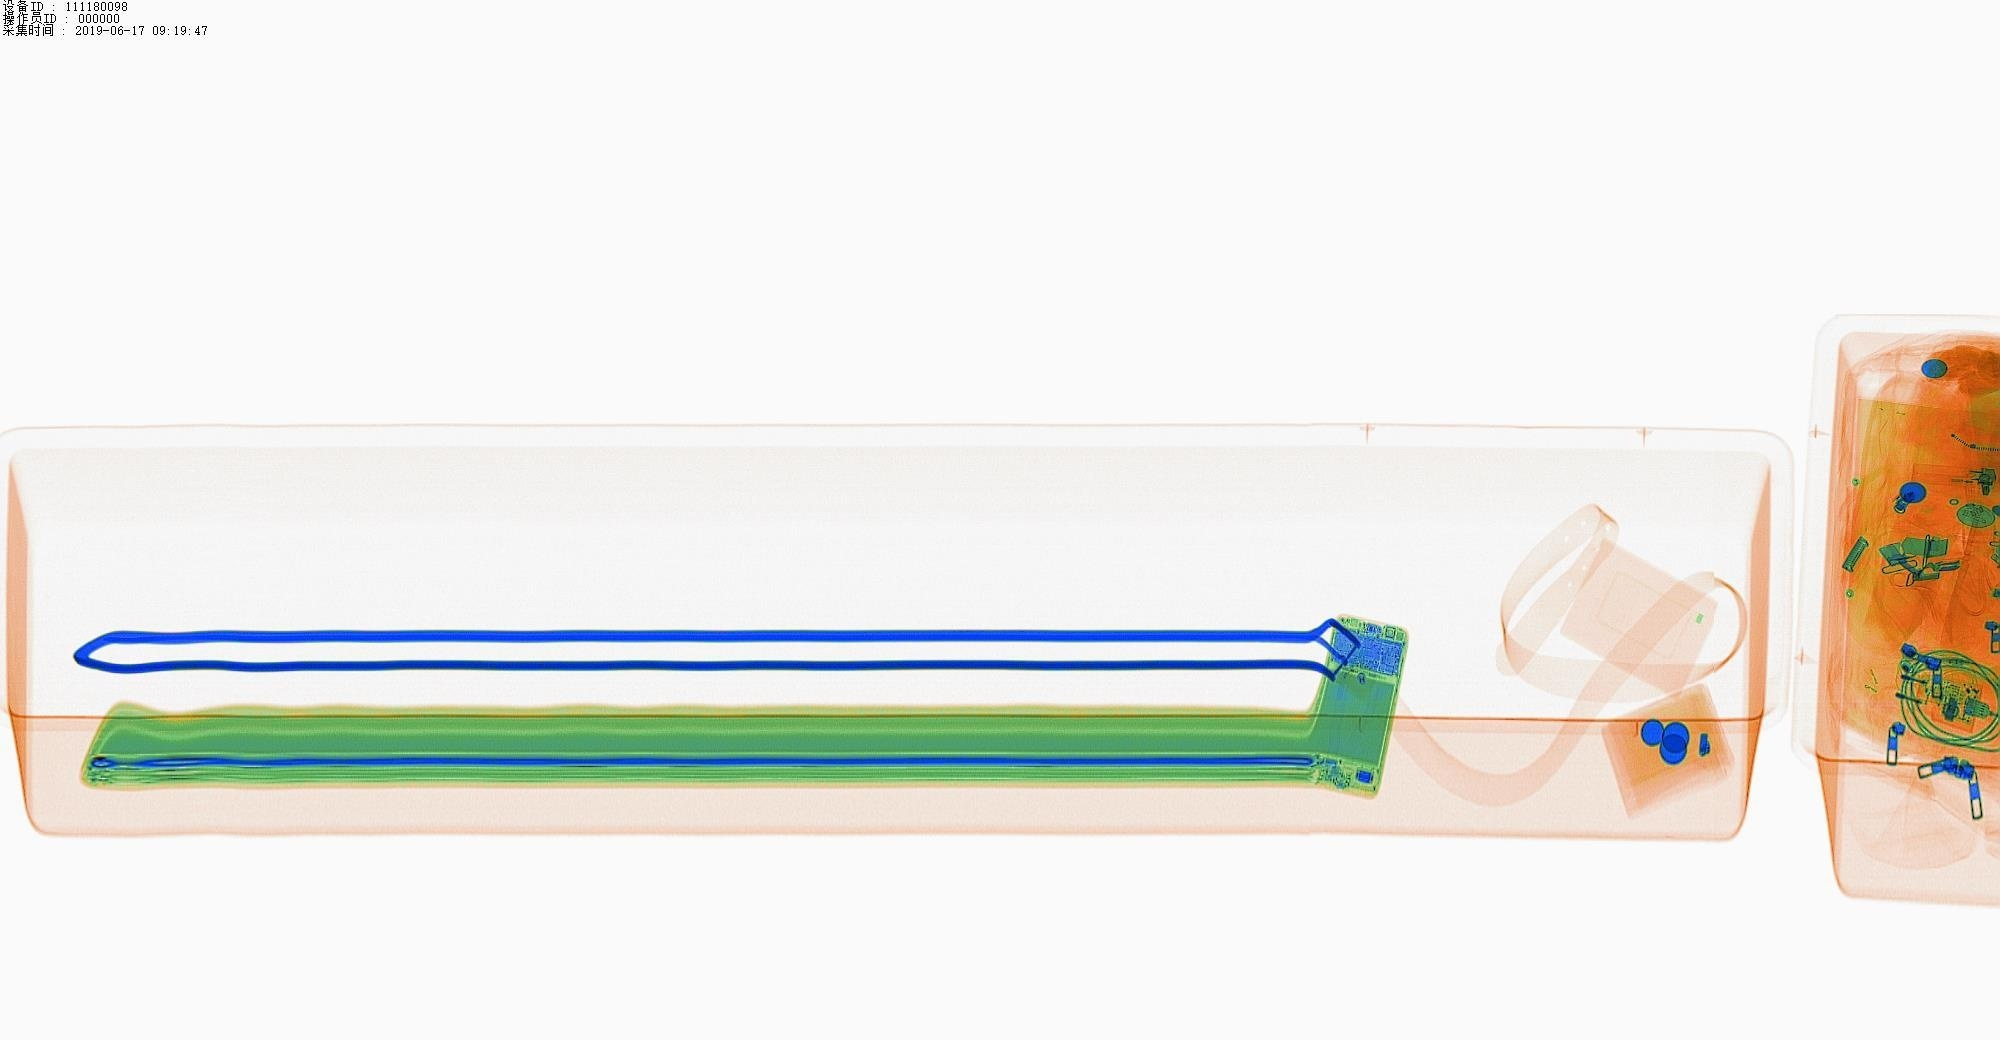NonmetallicFire: (1905, 451, 1999, 499)
